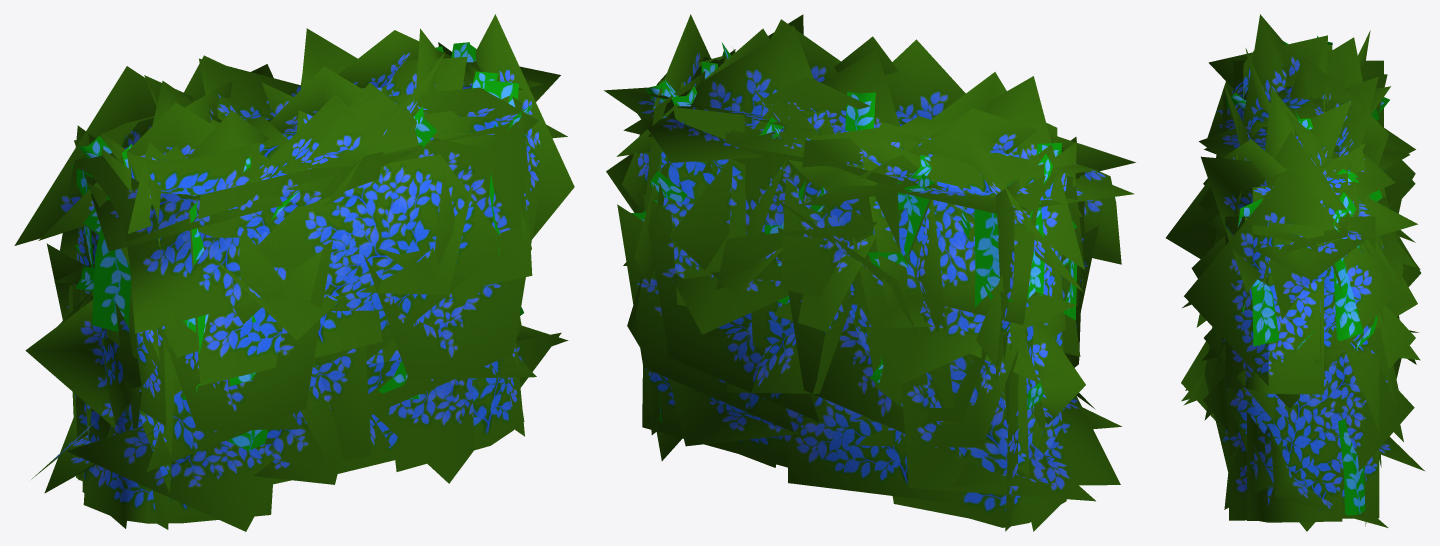
Rendered from Homeworld_Exterior_Common_Flower_Decoration_Greenwall_01_A_Lod0.fbx.
3 views of the same model, side by side, from view 1: azimuth 30°, elevation 25°; view 2: azimuth 150°, elevation 25°; view 3: azimuth 270°, elevation 25° (orthographic). The views are drawn at different scales.
Parts seen in each view (by area): view 1: Homeworld_Exterior_Common_Flower_Decoration_Greenwall_01_A_L; view 2: Homeworld_Exterior_Common_Flower_Decoration_Greenwall_01_A_L; view 3: Homeworld_Exterior_Common_Flower_Decoration_Greenwall_01_A_L.
Part boxes in pixels (bbox=[...]): Homeworld_Exterior_Common_Flower_Decoration_Greenwall_01_A_L: bbox=[14, 14, 574, 531]; Homeworld_Exterior_Common_Flower_Decoration_Greenwall_01_A_L: bbox=[604, 14, 1135, 531]; Homeworld_Exterior_Common_Flower_Decoration_Greenwall_01_A_L: bbox=[1166, 14, 1424, 531].
Bounding box in the file's own units: 3.4 × 2.68 × 1.62.
